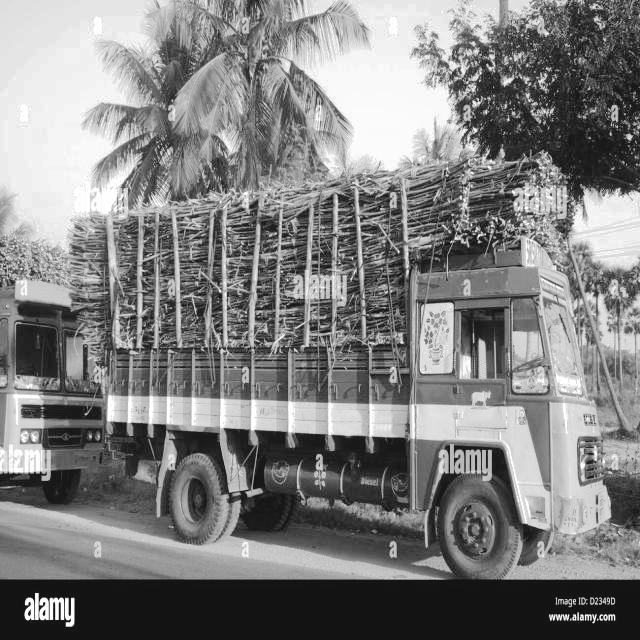HCV: (66, 101, 619, 581)
